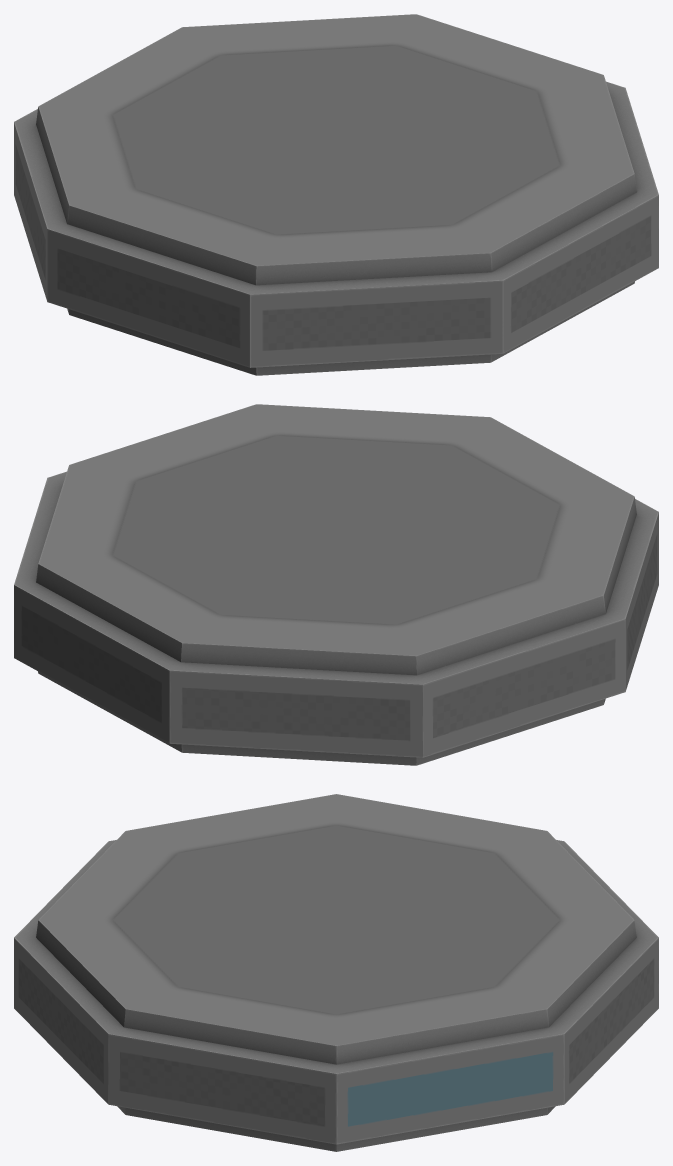
File: PortalPad.glb
3 views of the same model, one above another, from view 1: azimuth 30°, elevation 25°; view 2: azimuth 150°, elevation 25°; view 3: azimuth 270°, elevation 25° (orthographic). The views are drawn at different scales.
Parts seen in each view (by area): view 1: ProbodobodyneOKTO2_mesh; view 2: ProbodobodyneOKTO2_mesh; view 3: ProbodobodyneOKTO2_mesh.
Boxes of the visible parts, <box> form: ProbodobodyneOKTO2_mesh: <box>14,14,658,375</box>; ProbodobodyneOKTO2_mesh: <box>14,404,658,765</box>; ProbodobodyneOKTO2_mesh: <box>14,794,658,1151</box>.
Size of the model in its own units: 5.03 by 0.9112 by 5.03.
Materials: 1 (1 with a texture image).
